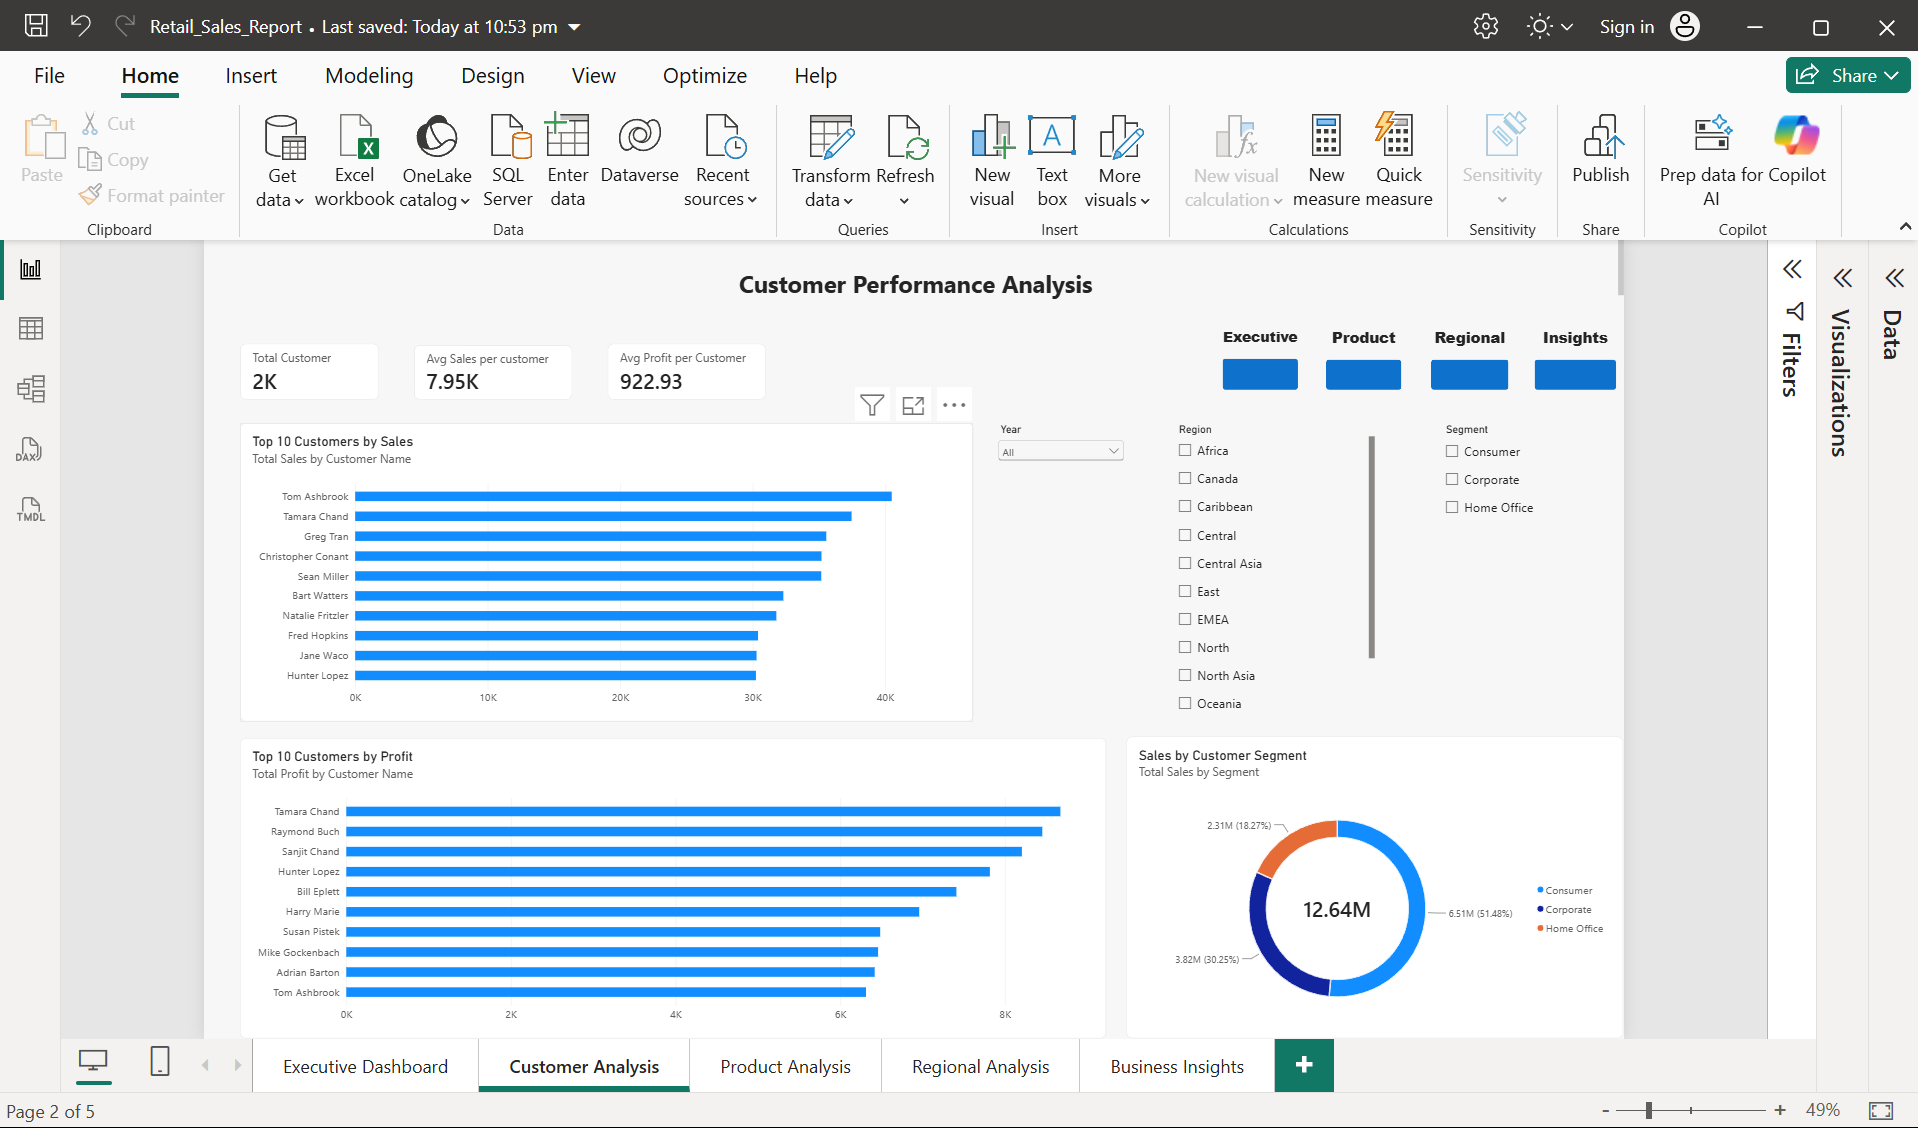

What the dashboard file says about the page in this screenshot:
{"tool":"powerbi","page":{"name":"Customer Analysis","canvas":[1920,1080],"ordinal":1},"visuals":[{"type":"textbox","box":[11.7,0,1907.6,86.3],"z":0},{"type":"cardVisual","fields":{"Data":["Sheet1.Total Customer"]},"box":[49,139.9,188.9,77],"z":1000},{"type":"cardVisual","fields":{"Data":["Sheet1.Avg Sales per customer"]},"box":[284.5,142.3,214.5,74.6],"z":2000},{"type":"cardVisual","fields":{"Data":["Sheet1.Avg profit per person"]},"box":[545.7,139.9,214.5,77],"z":3000},{"type":"clusteredBarChart","title":"Top 10 Customers by Sales","fields":{"Category":["Sheet1.Customer Name"],"Y":["Sheet1.Total Sales"]},"box":[49,247.2,991.1,403.4],"z":4000},{"type":"clusteredBarChart","title":"Top 10 Customers by Profit","fields":{"Category":["Sheet1.Customer Name"],"Y":["Sheet1.Total Profit"]},"box":[49,673.9,1170.7,405.8],"z":5000},{"type":"donutChart","title":"Sales by Customer Segment","fields":{"Category":["Sheet1.Segment"],"Y":["Sheet1.Total Sales"]},"box":[1247.6,671.6,671.6,408.1],"z":6000},{"type":"slicer","fields":{"Values":["Sheet1.Year"]},"box":[1068.1,247.2,179.6,135.3],"z":7000},{"type":"slicer","fields":{"Values":["Sheet1.Region"]},"box":[1310.6,247.2,272.8,403.4],"z":8000},{"type":"slicer","fields":{"Values":["Sheet1.Segment"]},"box":[1669.7,247.2,184.3,289.1],"z":9000},{"type":"actionButton","title":"Insights","box":[1798,116.6,110.6,85],"z":10000},{"type":"actionButton","title":"Regional","box":[1658.1,116.6,104.9,85],"z":11000},{"type":"actionButton","title":"Product","box":[1515.8,116.6,102,85],"z":12000},{"type":"actionButton","title":"Executive","box":[1375.9,116.6,102,85],"z":13000}]}

Visuals, with their boxes on the page's 1920x1080 design canvas (x1, y1, x2, y2). These are canvas units, not pixel positions in the 1918x1128 screenshot, which may show the page scaled, cropped or inside an application window:
textbox: x1=12, y1=0, x2=1919, y2=86
cardVisual - Sheet1.Total Customer: x1=49, y1=140, x2=238, y2=217
cardVisual - Sheet1.Avg Sales per customer: x1=284, y1=142, x2=499, y2=217
cardVisual - Sheet1.Avg profit per person: x1=546, y1=140, x2=760, y2=217
"Top 10 Customers by Sales" clusteredBarChart: x1=49, y1=247, x2=1040, y2=651
"Top 10 Customers by Profit" clusteredBarChart: x1=49, y1=674, x2=1220, y2=1080
"Sales by Customer Segment" donutChart: x1=1248, y1=672, x2=1919, y2=1080
slicer - Sheet1.Year: x1=1068, y1=247, x2=1248, y2=382
slicer - Sheet1.Region: x1=1311, y1=247, x2=1583, y2=651
slicer - Sheet1.Segment: x1=1670, y1=247, x2=1854, y2=536
"Insights" actionButton: x1=1798, y1=117, x2=1909, y2=202
"Regional" actionButton: x1=1658, y1=117, x2=1763, y2=202
"Product" actionButton: x1=1516, y1=117, x2=1618, y2=202
"Executive" actionButton: x1=1376, y1=117, x2=1478, y2=202
